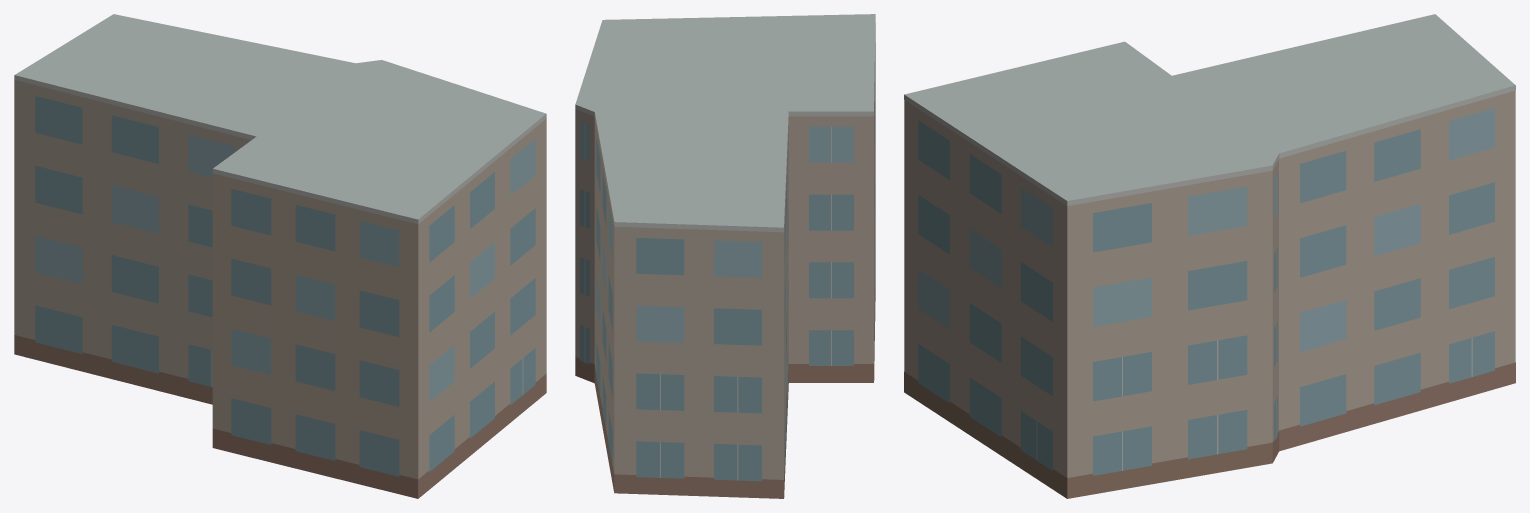
The model's file is survey-upis-32982123.glb.
3 renders of one model, left to right at view 1: azimuth 30°, elevation 25°; view 2: azimuth 150°, elevation 25°; view 3: azimuth 270°, elevation 25°, orthographic. The views are drawn at different scales.
Parts seen in each view (by area): view 1: survey-upis-32982123.tmp; view 2: survey-upis-32982123.tmp; view 3: survey-upis-32982123.tmp.
Part boxes in pixels (box(x1,y1,x2,y2)): survey-upis-32982123.tmp: box(14, 14, 546, 498); survey-upis-32982123.tmp: box(575, 14, 875, 498); survey-upis-32982123.tmp: box(904, 14, 1515, 498).
Size of the model in its own units: 19.2 by 14.25 by 26.53.
